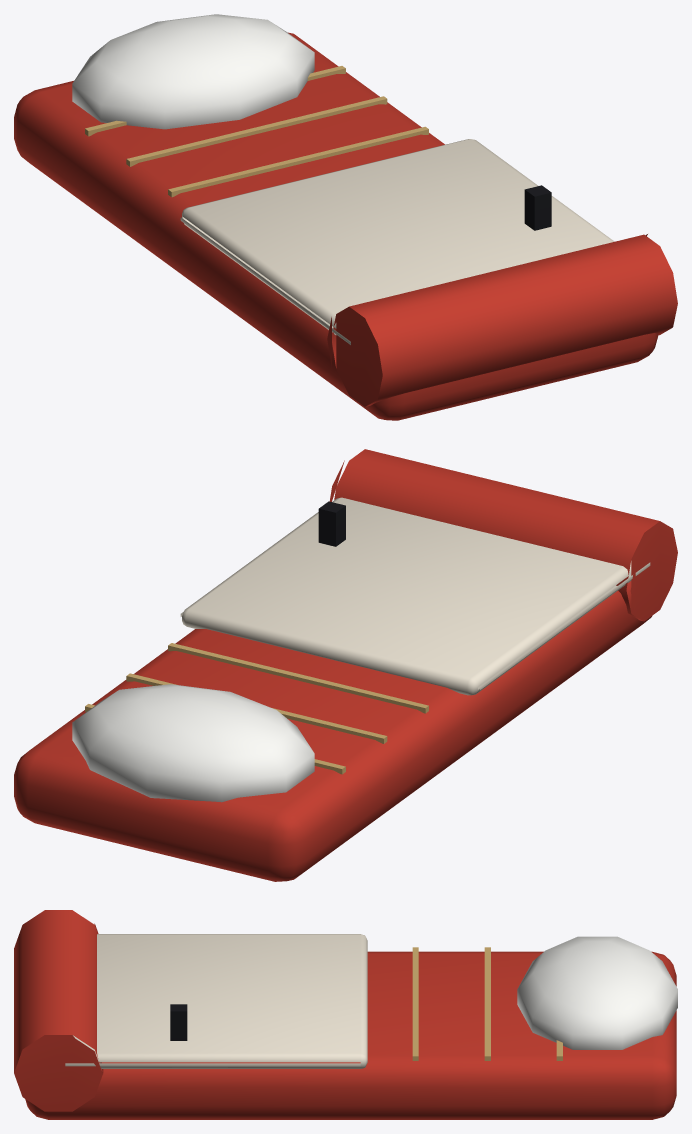
Rendered from sleeping_bag.glb.
3 renders of one model, top to bottom at view 1: azimuth 30°, elevation 25°; view 2: azimuth 150°, elevation 25°; view 3: azimuth 270°, elevation 25°, orthographic. The views are drawn at different scales.
Visible parts, largest first — view 1: sleeping_bag, sleeping_bag_craft; view 2: sleeping_bag, sleeping_bag_craft; view 3: sleeping_bag, sleeping_bag_craft.
Part boxes in pixels (x1,y1,x2,y2): sleeping_bag: [14, 14, 677, 420]; sleeping_bag_craft: [85, 66, 428, 197]; sleeping_bag: [14, 449, 677, 881]; sleeping_bag_craft: [85, 643, 428, 774]; sleeping_bag: [14, 910, 677, 1119]; sleeping_bag_craft: [412, 947, 562, 1060].
Bounding box in the file's own units: 0.884 × 0.352 × 1.93.
